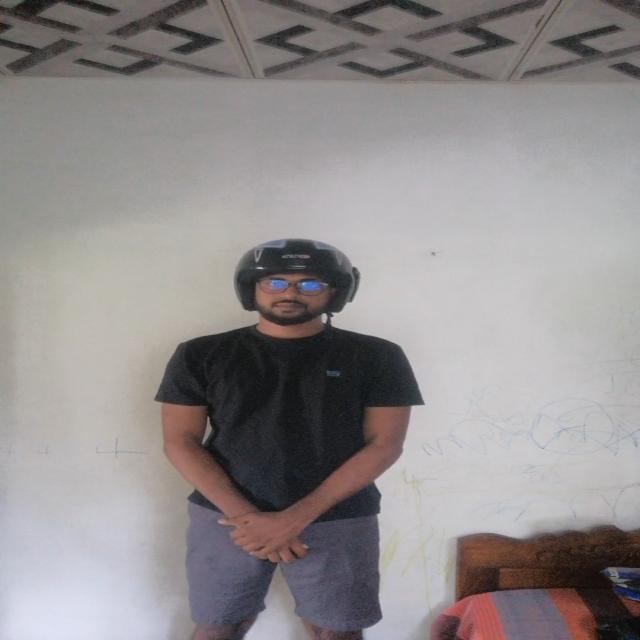Helmet_Wearer: (194, 232, 373, 350)
Person: (133, 238, 431, 640)
